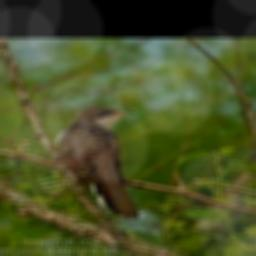Cuckoo: (55, 106, 140, 219)
